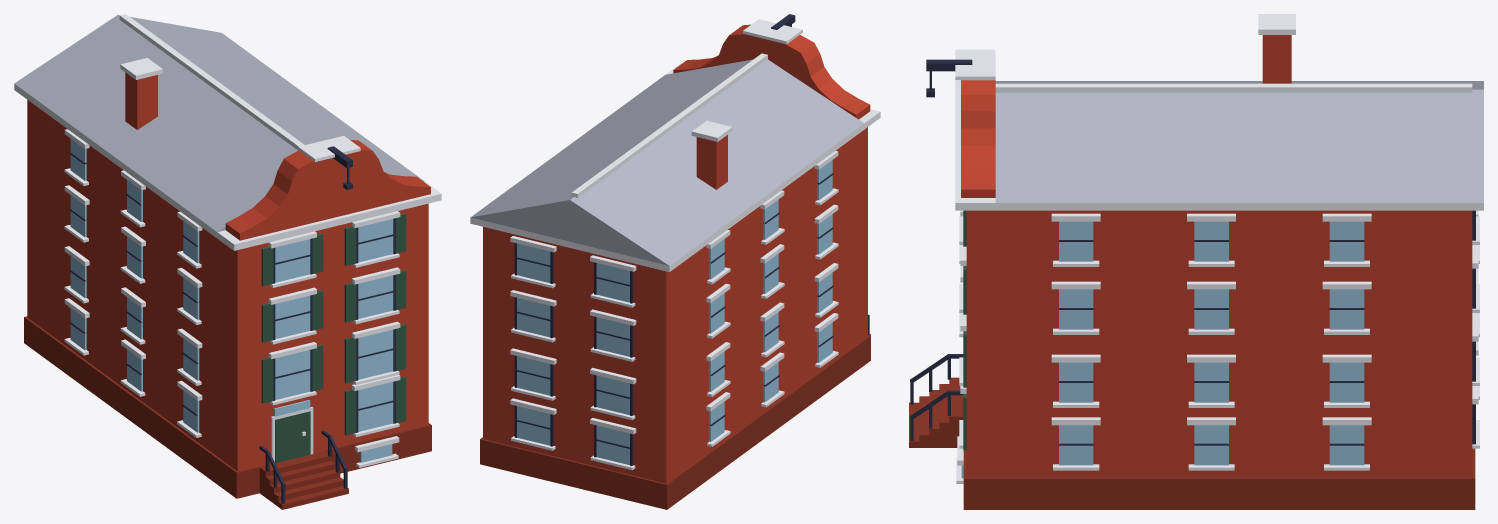
Rendered from house-1x2-4f-dutch-a.glb.
3 renders of one model, left to right at view 1: azimuth 30°, elevation 25°; view 2: azimuth 150°, elevation 25°; view 3: azimuth 270°, elevation 25°, orthographic. The views are drawn at different scales.
Visible parts, largest first — view 1: house-1x2-4f-dutch-a; view 2: house-1x2-4f-dutch-a; view 3: house-1x2-4f-dutch-a.
Part boxes in pixels (left/top/right/bottom): house-1x2-4f-dutch-a: left=14, top=14, right=441, bottom=509; house-1x2-4f-dutch-a: left=470, top=14, right=880, bottom=509; house-1x2-4f-dutch-a: left=909, top=14, right=1483, bottom=509.
Bounding box in the file's own units: 1 × 1.51 × 2.
Materials: 1 (1 with a texture image).
